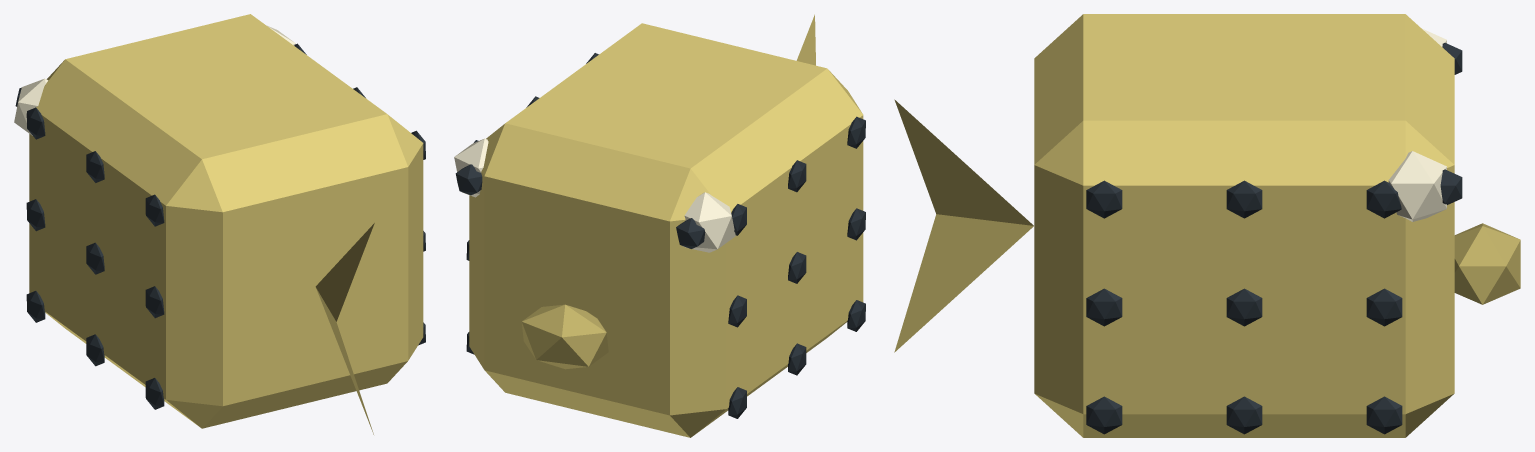
Rendered from YellowBoxfish.fbx.
3 views of the same model, side by side, from view 1: azimuth 30°, elevation 25°; view 2: azimuth 150°, elevation 25°; view 3: azimuth 270°, elevation 25° (orthographic). The views are drawn at different scales.
Parts seen in each view (by area): view 1: BoxBody, TailFan, Eye1, Spot1_2_0, Spot1_2_1, Spot1_2_2, Spot1_0_0, Spot1_1_0, Spot1_1_2, Spot1_0_1, Spot1_1_1, Spot1_0_2; view 2: BoxBody, Lips, Eye1, Eye-1, Pupil1, Pupil-1, TailFan, Spot1_1_1, Spot1_1_0, Spot1_1_2, Spot1_2_0, Spot1_0_0 (+3 smaller); view 3: BoxBody, TailFan, Lips, Eye-1, Spot-1_2_0, Spot-1_1_2, Spot-1_2_2, Spot-1_0_0, Spot-1_0_1, Spot-1_1_0, Spot-1_1_1, Spot-1_2_1 (+2 smaller).
Boxes of the visible parts, x1,y1,x2,y2 form: BoxBody: (29,14,423,428); TailFan: (315,223,374,434); Eye1: (14,78,48,135); Spot1_2_0: (145,378,164,409); Spot1_2_1: (145,286,164,318); Spot1_2_2: (145,194,164,226); Spot1_0_0: (26,291,45,322); Spot1_1_0: (86,334,104,366); Spot1_1_2: (86,151,104,182); Spot1_0_1: (26,199,45,231); Spot1_1_1: (86,242,104,274); Spot1_0_2: (26,107,45,139); BoxBody: (469,23,863,437); Lips: (521,304,608,369); Eye1: (682,192,735,252); Eye-1: (454,138,488,197); Pupil1: (676,218,705,248); Pupil-1: (455,164,482,195); TailFan: (796,14,815,65); Spot1_1_1: (788,252,806,283); Spot1_1_0: (788,343,806,375); Spot1_1_2: (788,160,806,192); Spot1_2_0: (847,300,865,331); Spot1_0_0: (728,387,746,418); BoxBody: (1034,14,1454,437); TailFan: (894,99,1033,352); Lips: (1454,223,1520,304); Eye-1: (1388,151,1446,221); Spot-1_2_0: (1086,396,1122,434); Spot-1_1_2: (1226,180,1262,218); Spot-1_2_2: (1086,180,1122,218); Spot-1_0_0: (1366,396,1402,434); Spot-1_0_1: (1366,288,1402,326); Spot-1_1_0: (1226,396,1262,434); Spot-1_1_1: (1226,288,1262,326); Spot-1_2_1: (1086,288,1122,326).
Size of the model in its own units: 0.2659 by 0.25 by 0.4472.
